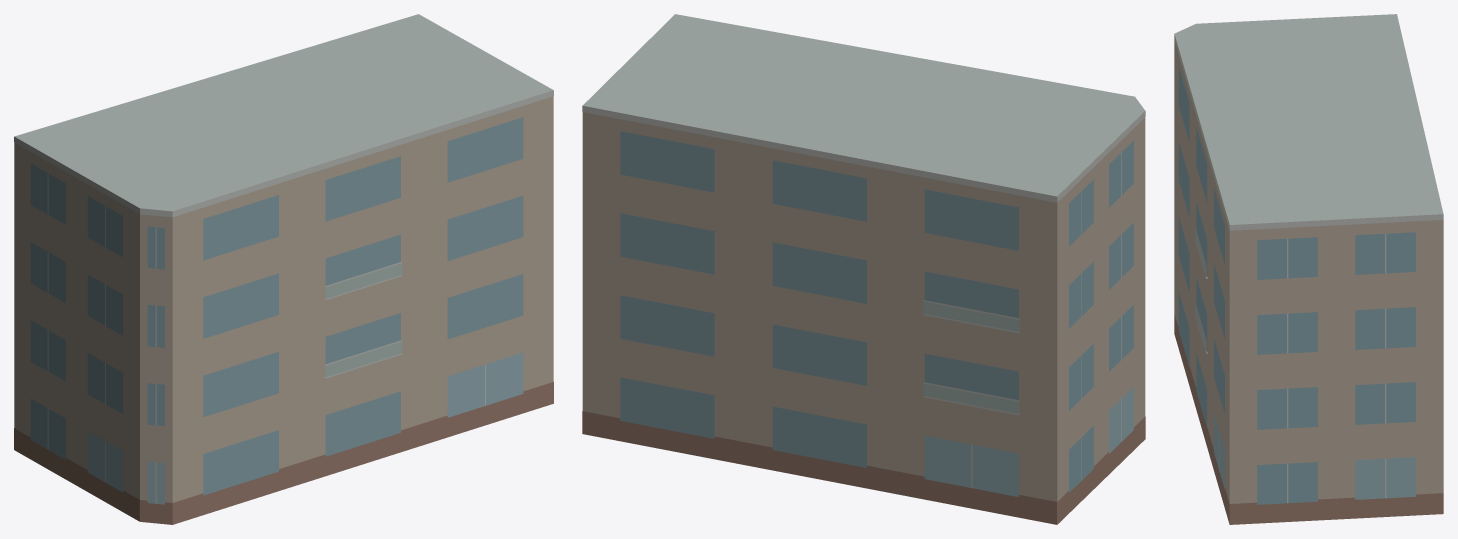
File: survey-upis-32655252.glb
3 views of the same model, side by side, from view 1: azimuth 30°, elevation 25°; view 2: azimuth 150°, elevation 25°; view 3: azimuth 270°, elevation 25° (orthographic). The views are drawn at different scales.
Visible parts, largest first — view 1: survey-upis-32655252.tmp; view 2: survey-upis-32655252.tmp; view 3: survey-upis-32655252.tmp.
Part boxes in pixels (<box>): survey-upis-32655252.tmp: <box>14,14,553,524</box>; survey-upis-32655252.tmp: <box>582,14,1145,524</box>; survey-upis-32655252.tmp: <box>1174,14,1443,524</box>.
Size of the model in its own units: 19.33 by 12.8 by 10.43.
